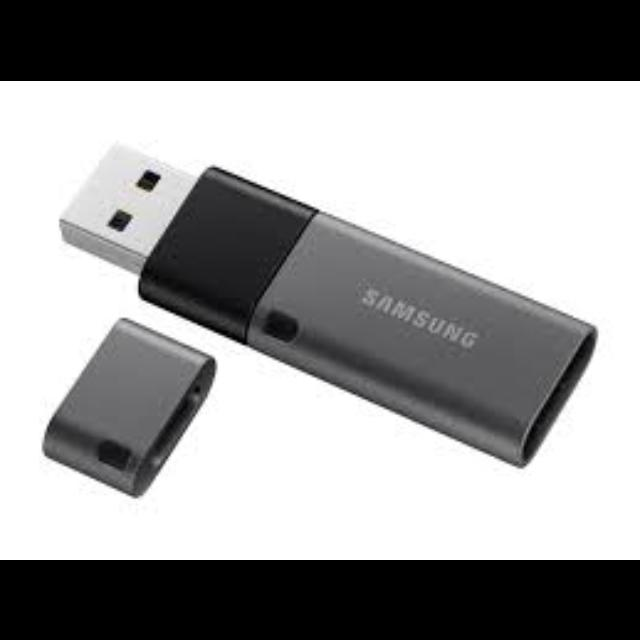USB-Flash-Drive: (59, 142, 596, 468)
